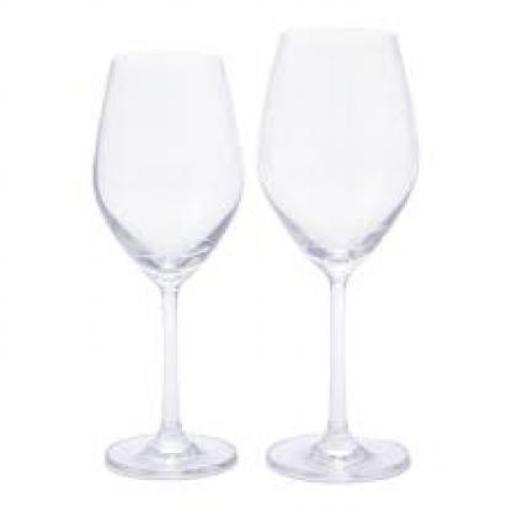glass: (257, 25, 416, 480), (95, 52, 242, 476)
